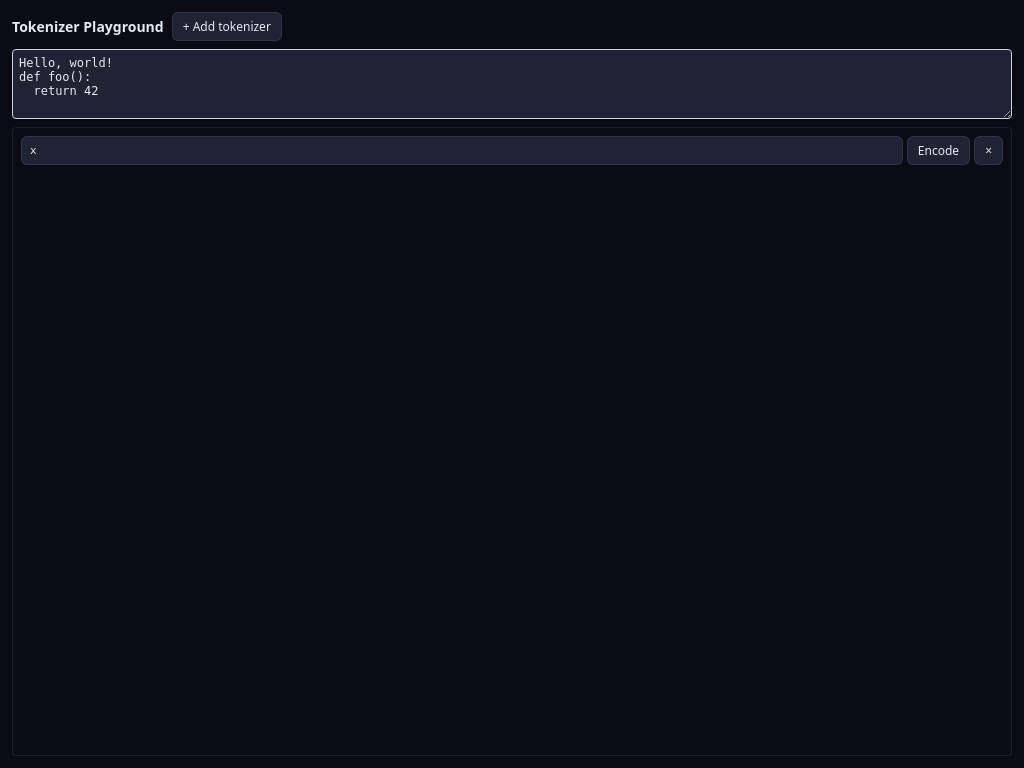
Test case: TokenizerPlayground › Renders error envelope when backend fails
Click the button with test id "tokenizer-encode-0" at x=939, y=150, box left=907, top=136, right=970, bottom=165
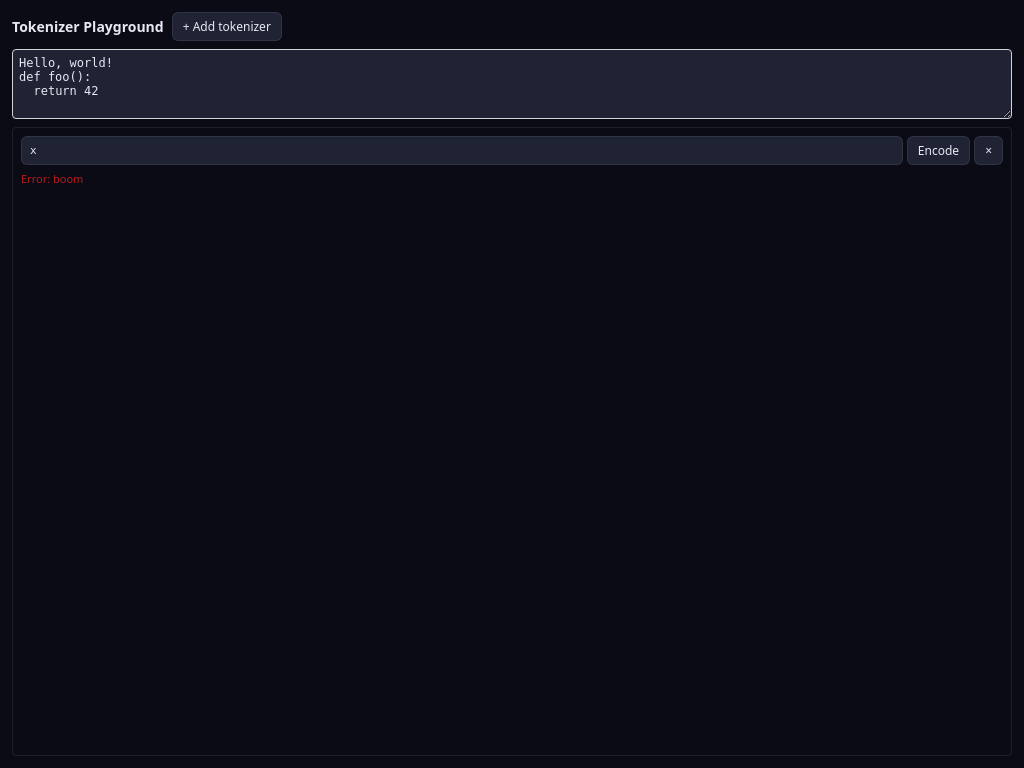
Now the text "Error: boom" is shown, box left=21, top=171, right=83, bottom=186
